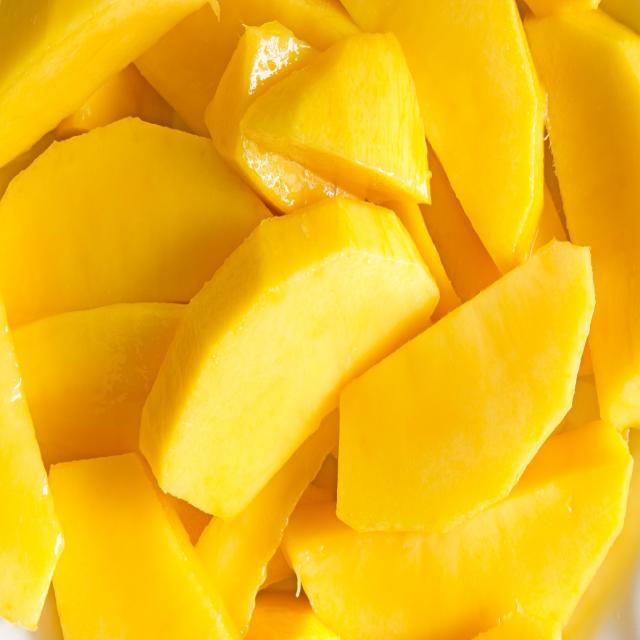Mango: (138, 168, 417, 540), (340, 215, 592, 548), (0, 111, 299, 344), (226, 32, 455, 244)
